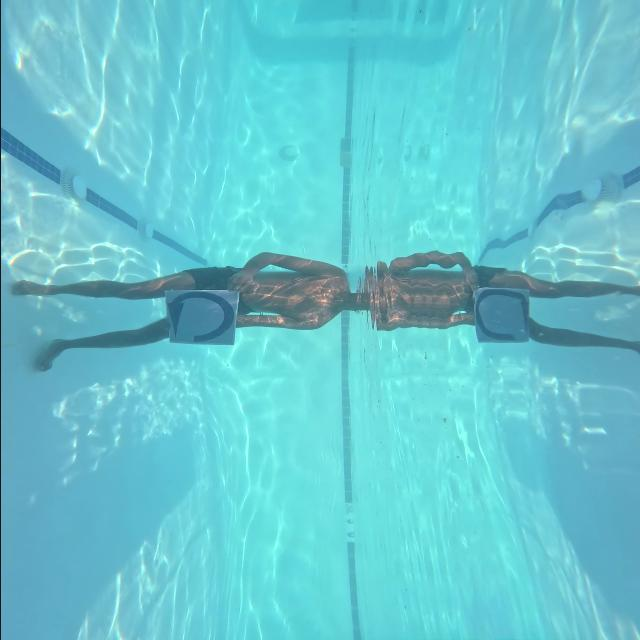blue_side: (154, 290, 246, 356)
